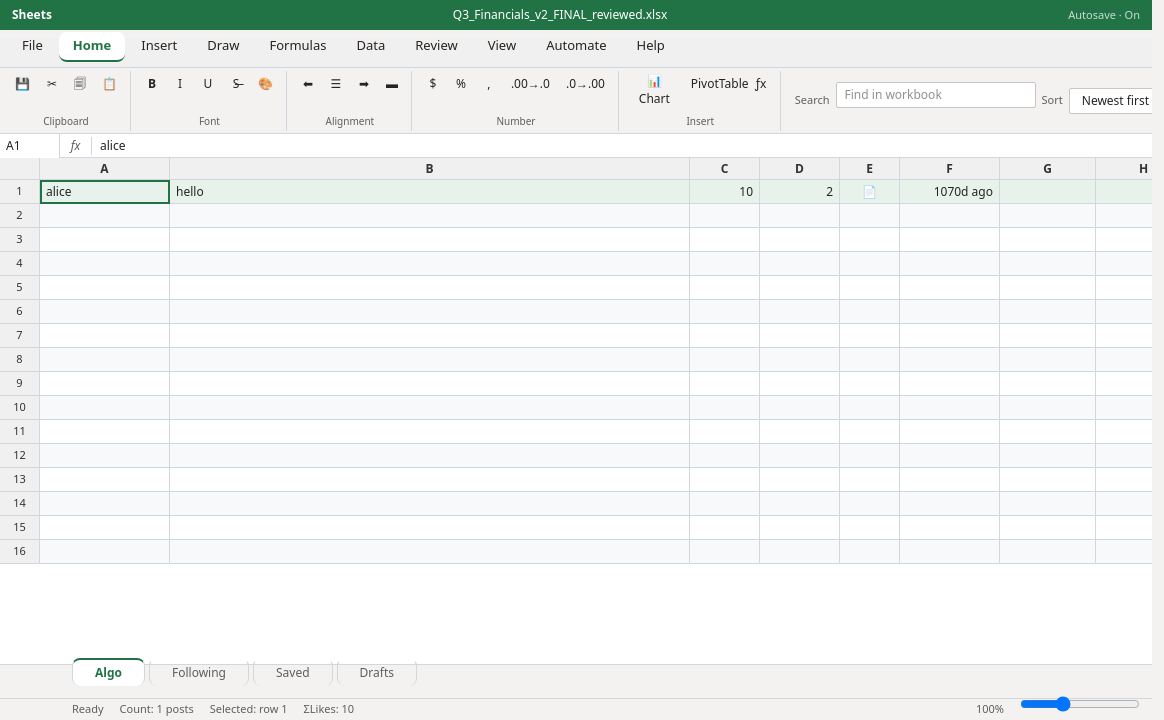
LedgerPage › switches sheets via the bottom tabs
Click the button with test id "ledger-sheet-following": (199, 672) [149,658,249,686]
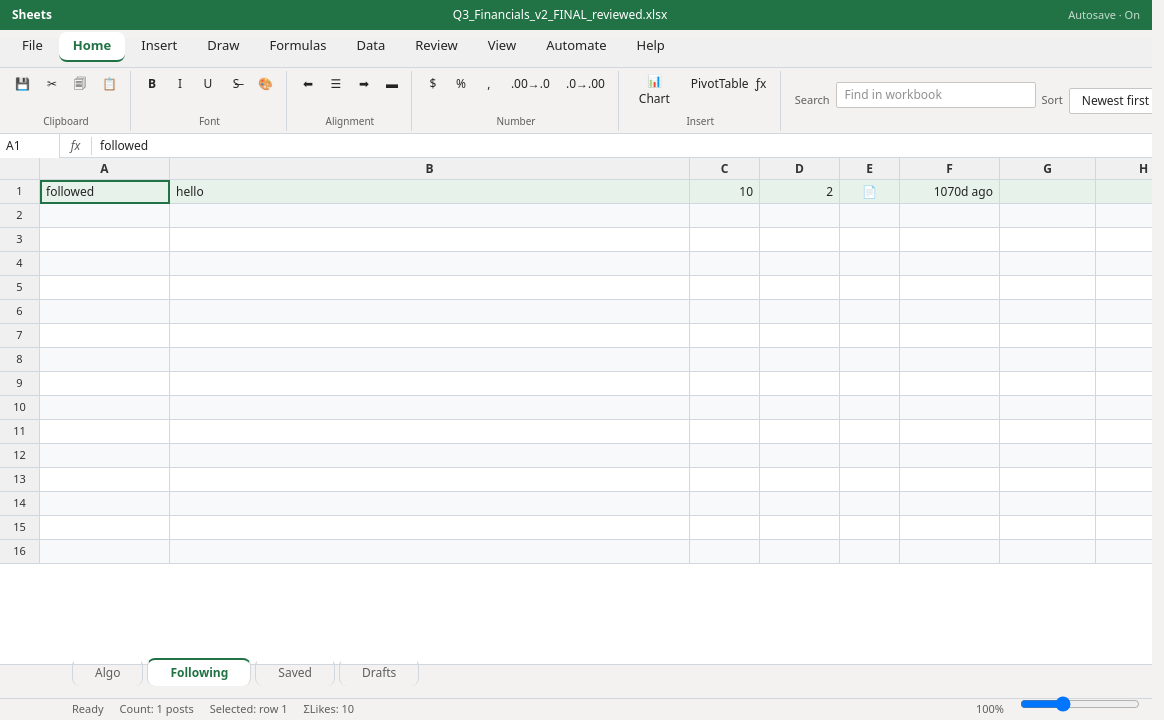
Expected: the text with test id "ledger-cell-0-A" reads "followed", [46,182,94,200]
